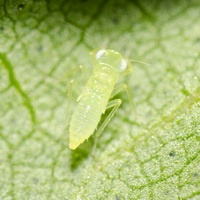insect: (69, 49, 126, 149)
